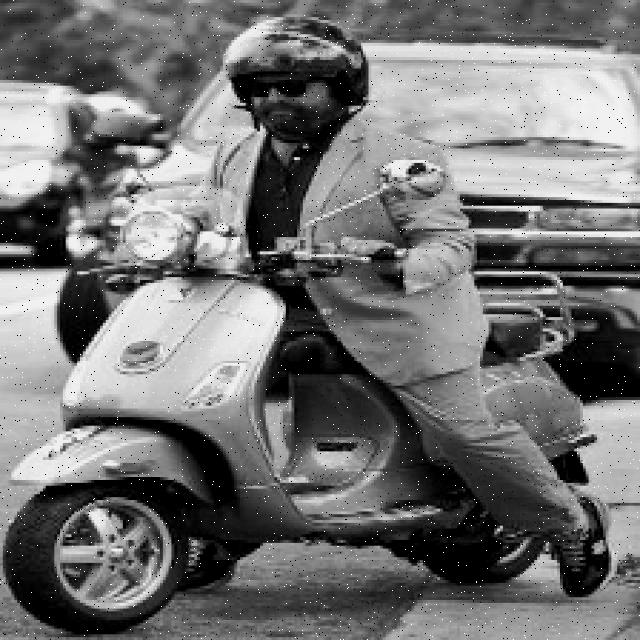Bike: (12, 219, 440, 639)
